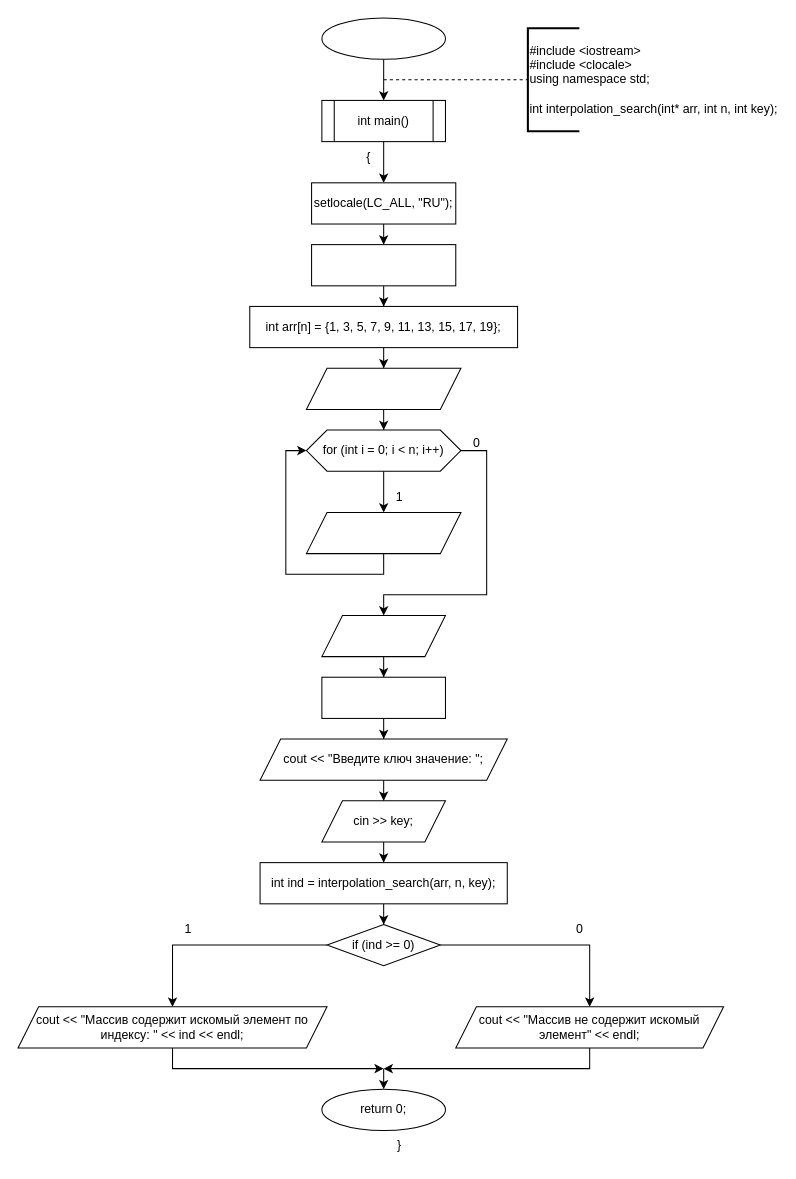
This 796x1179 diagram has some shape labels left out. Here are the shapes that lost their labels. From the top down, the centre of each, then its label:
point 383,38: Начало
point 383,265: const int n = 10;
point 383,388: cout << "Массив:\n";
point 383,532: cout << arr[i] << ' ';
point 383,635: cout << endl;
point 383,697: int key;
